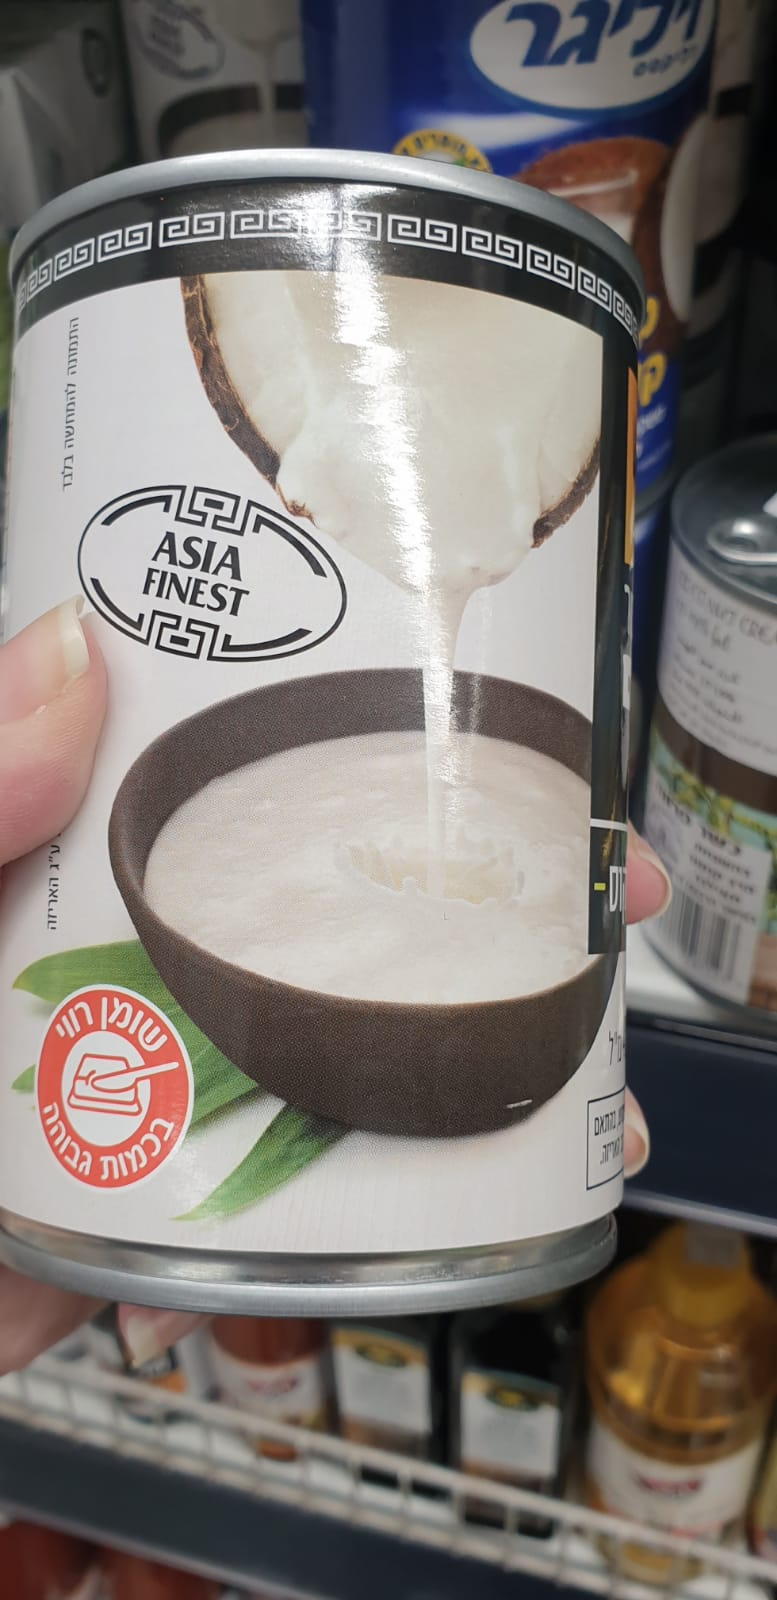fat: (34, 983, 192, 1195)
